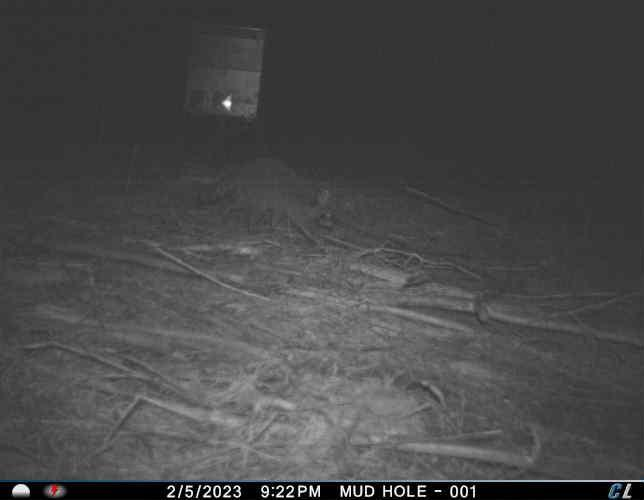Raccoon: (193, 154, 337, 249)
